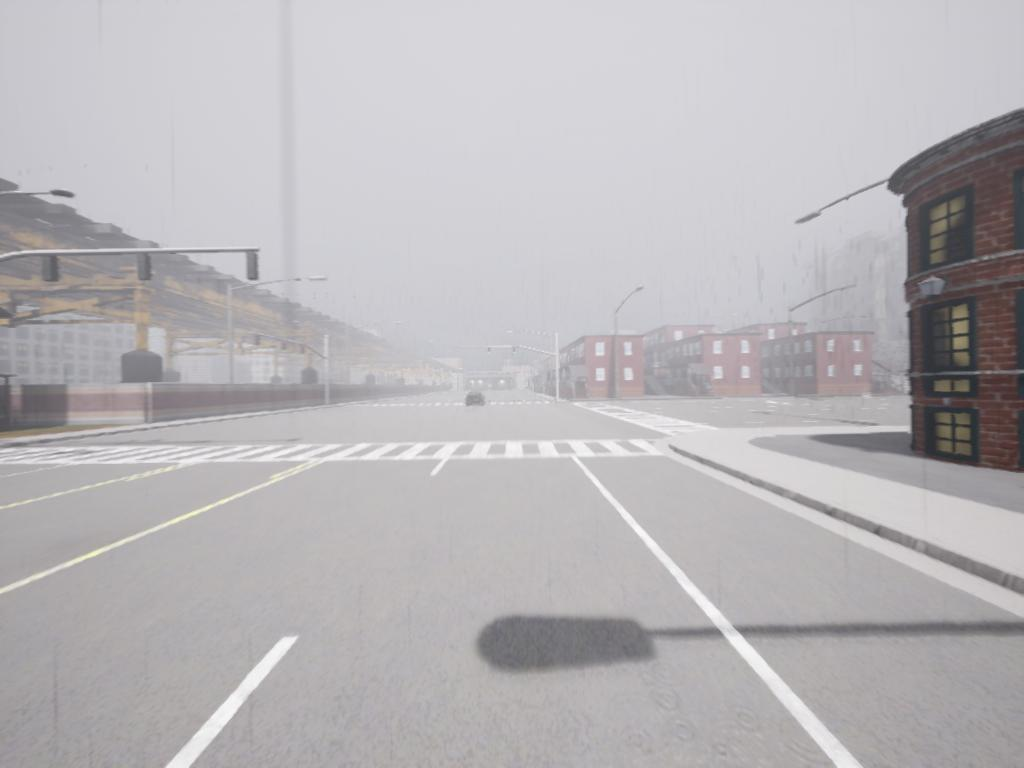traffic_light: (43, 256, 64, 285), (245, 252, 262, 282), (139, 255, 154, 285), (256, 334, 263, 348), (512, 346, 520, 357), (302, 345, 308, 359), (281, 341, 290, 350), (488, 346, 493, 357)
